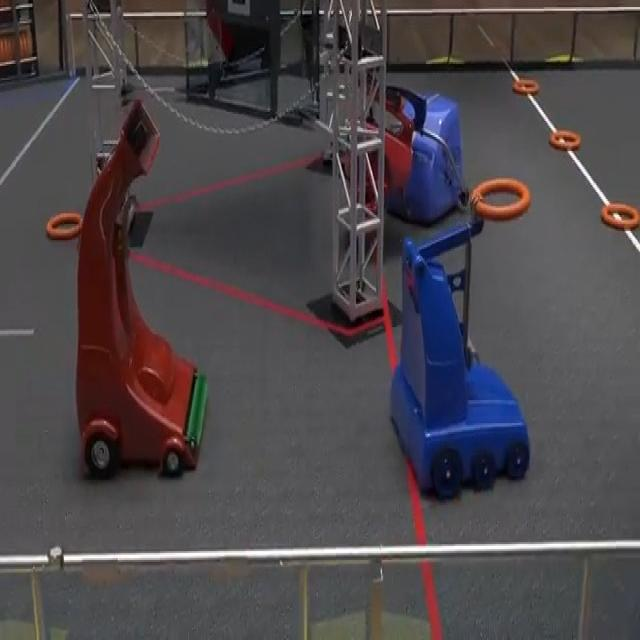notes: (471, 177, 532, 222), (46, 210, 84, 240), (602, 202, 640, 230), (548, 128, 581, 151), (511, 80, 541, 96)
